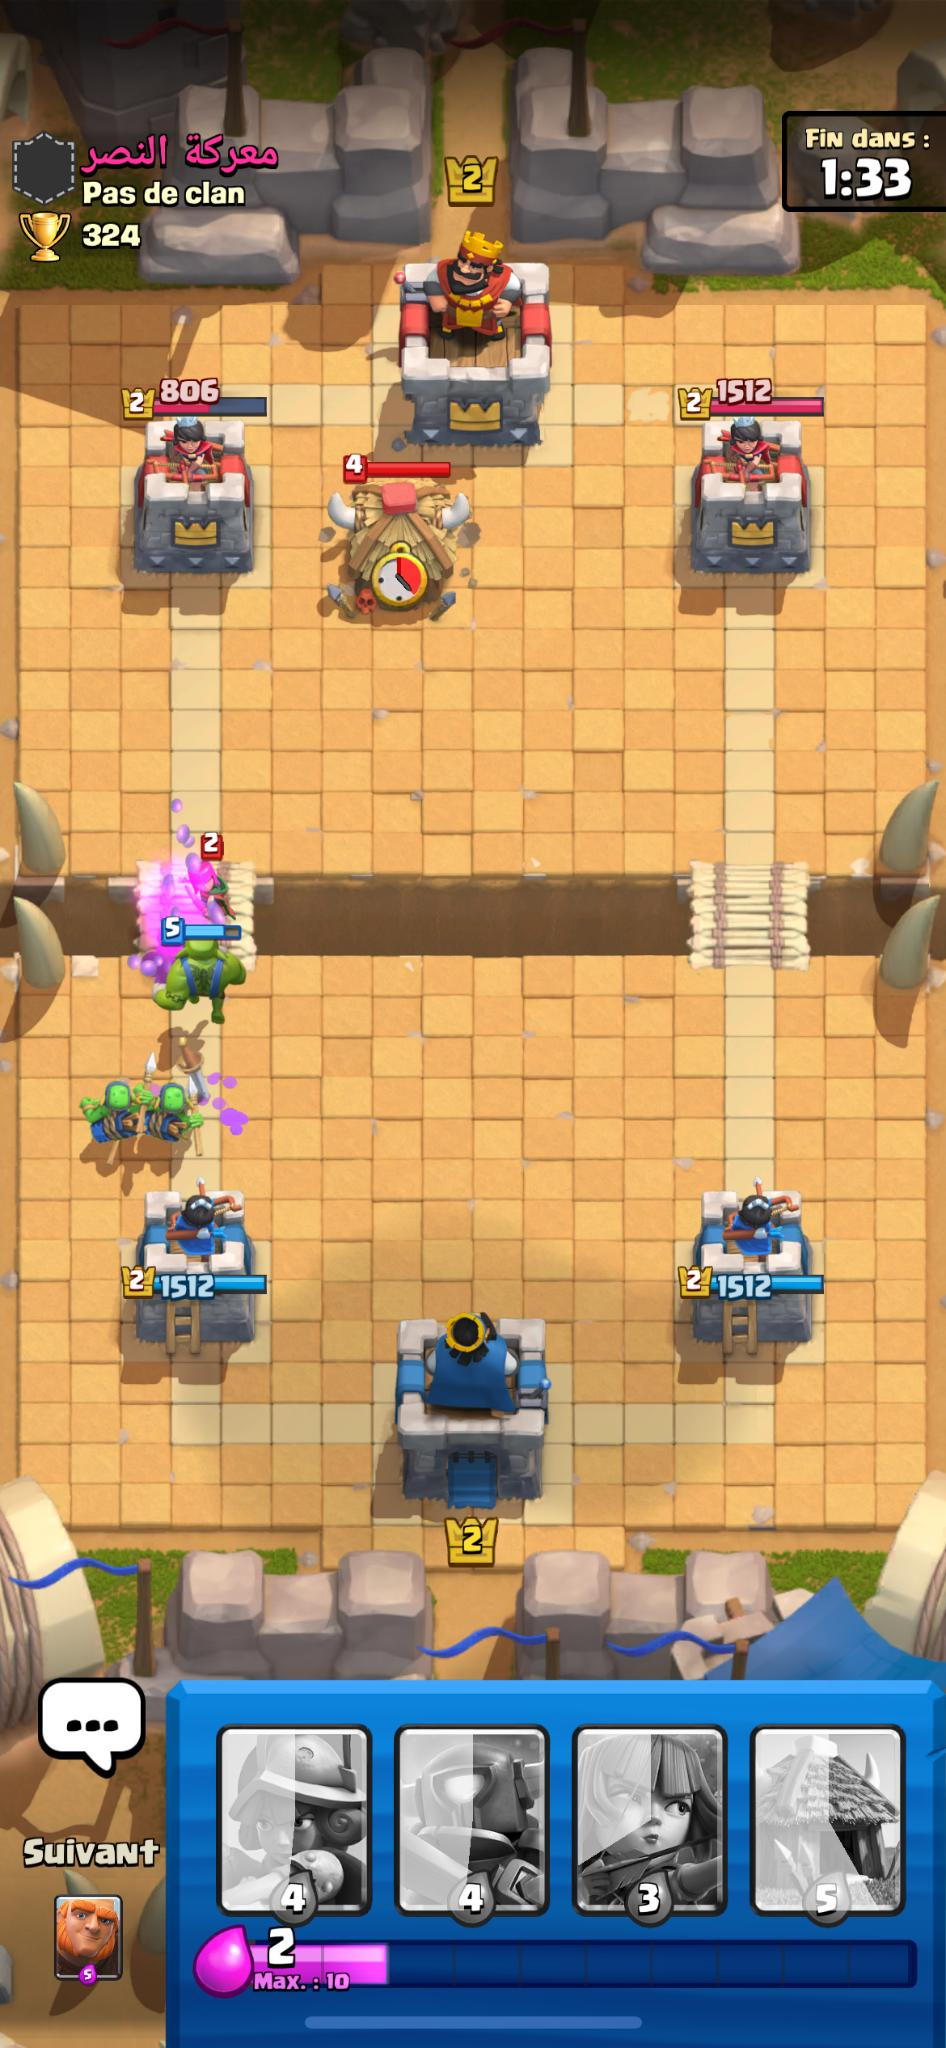archere: (161, 845, 247, 939)
gobelin_lances: (71, 1040, 154, 1164), (148, 1070, 217, 1166)
